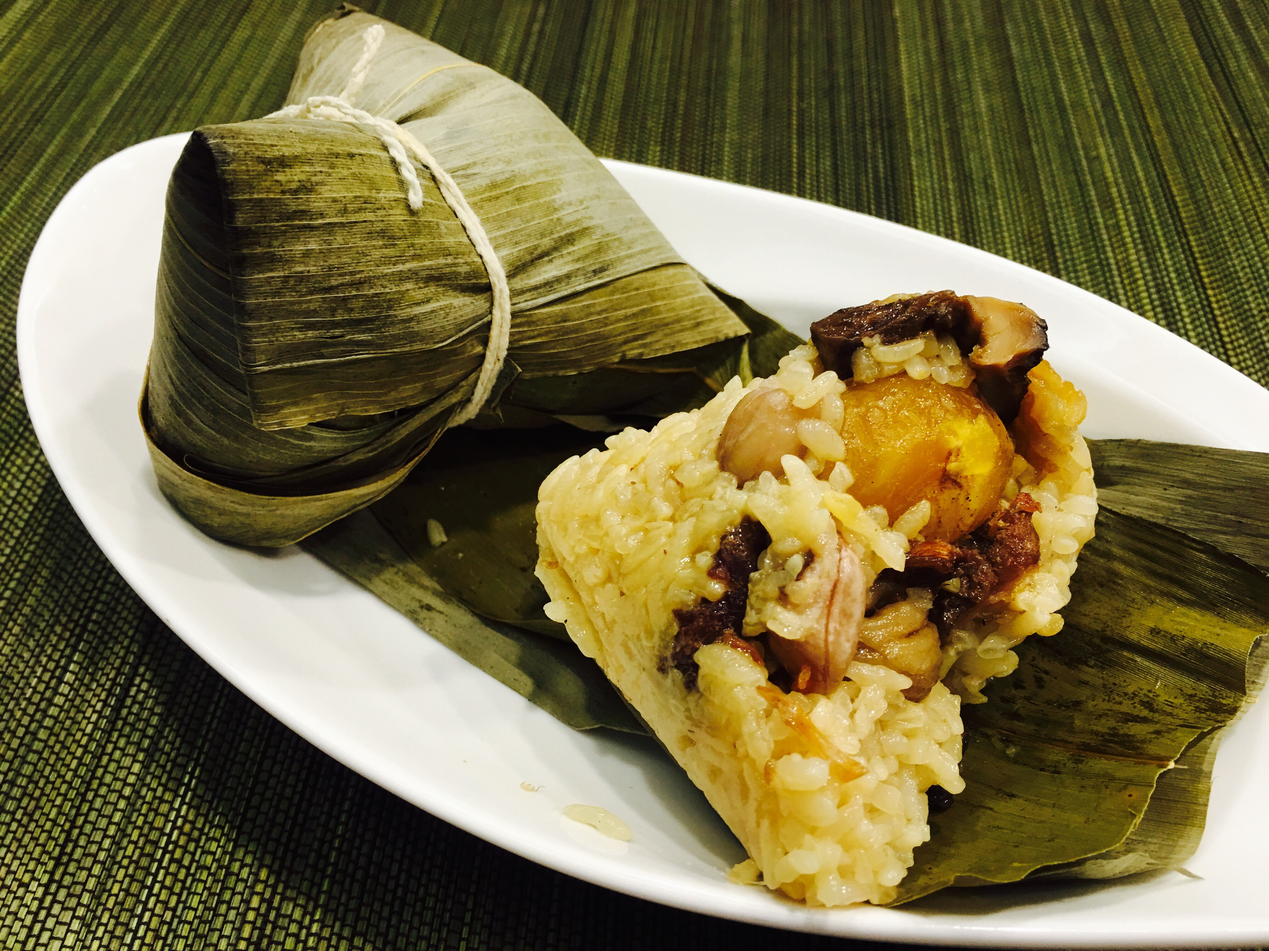zongzi: (536, 291, 1097, 907), (143, 7, 759, 543)
